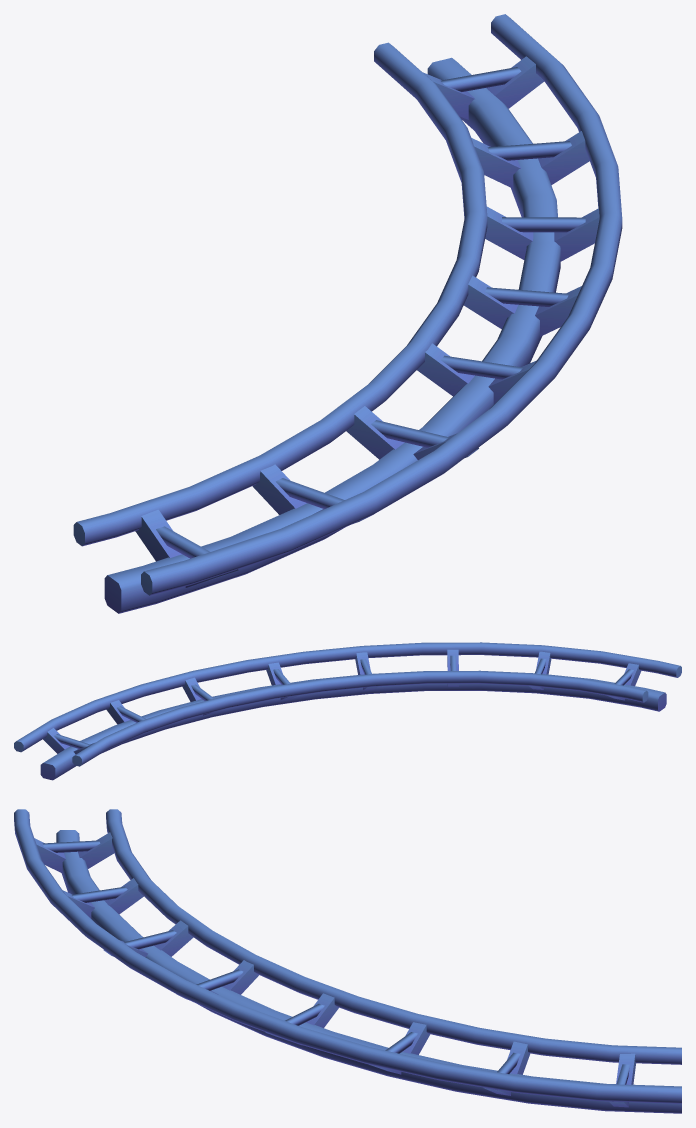
Rendered from coaster-steel-corner-large.glb.
The picture shows the model from 3 angles, top to bottom: view 1: azimuth 30°, elevation 25°; view 2: azimuth 150°, elevation 25°; view 3: azimuth 270°, elevation 25°; orthographic projection. The views are drawn at different scales.
Parts seen in each view (by area): view 1: coaster-steel-corner-large; view 2: coaster-steel-corner-large; view 3: coaster-steel-corner-large.
Boxes of the visible parts, x1,y1,x2,y2 form: coaster-steel-corner-large: (73,14,622,613); coaster-steel-corner-large: (14,642,681,780); coaster-steel-corner-large: (14,809,681,1113).
Bounding box in the file's own units: 4.35 × 0.3 × 4.35.
Materials: 1 (1 with a texture image).
